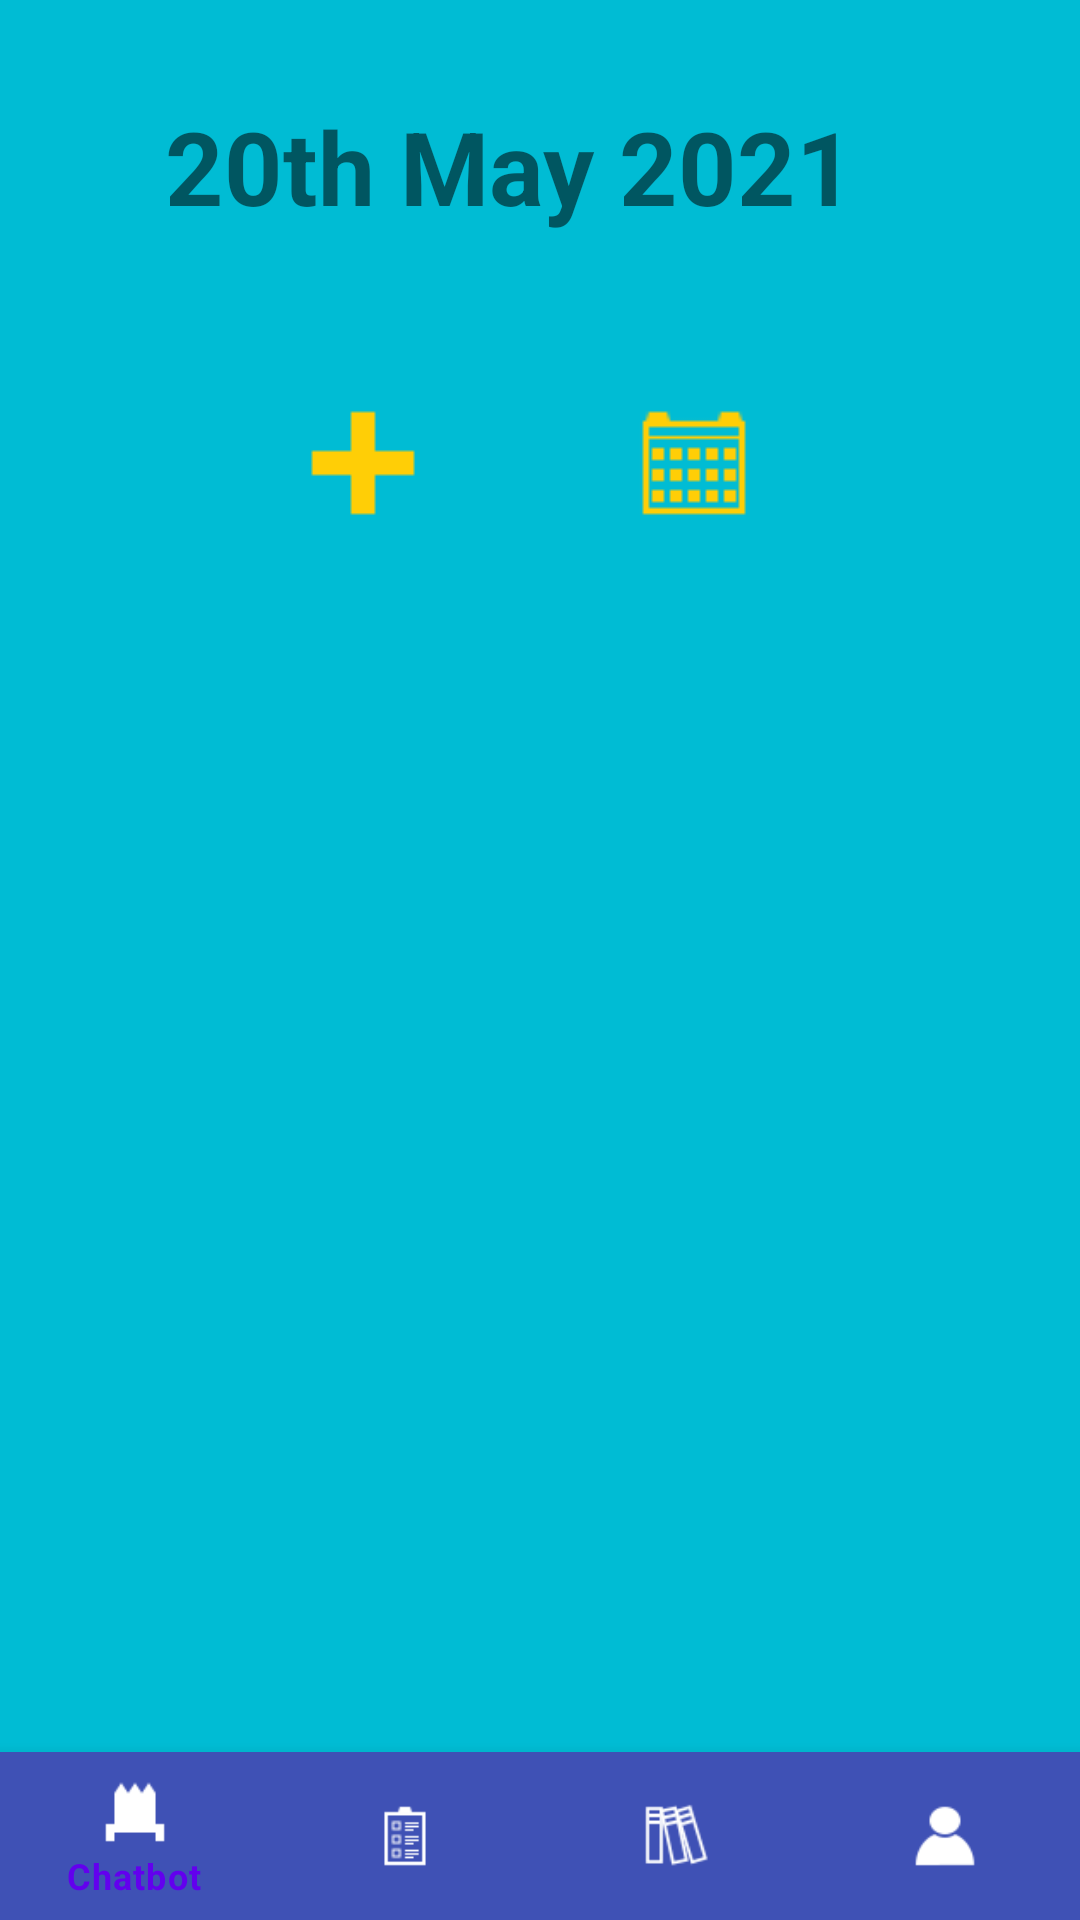

Icon bounding boxes for this 1080 × 1920 phone screenshot, format (x1, y1, x2, y2):
imageview4cal: (642, 411, 746, 515)
